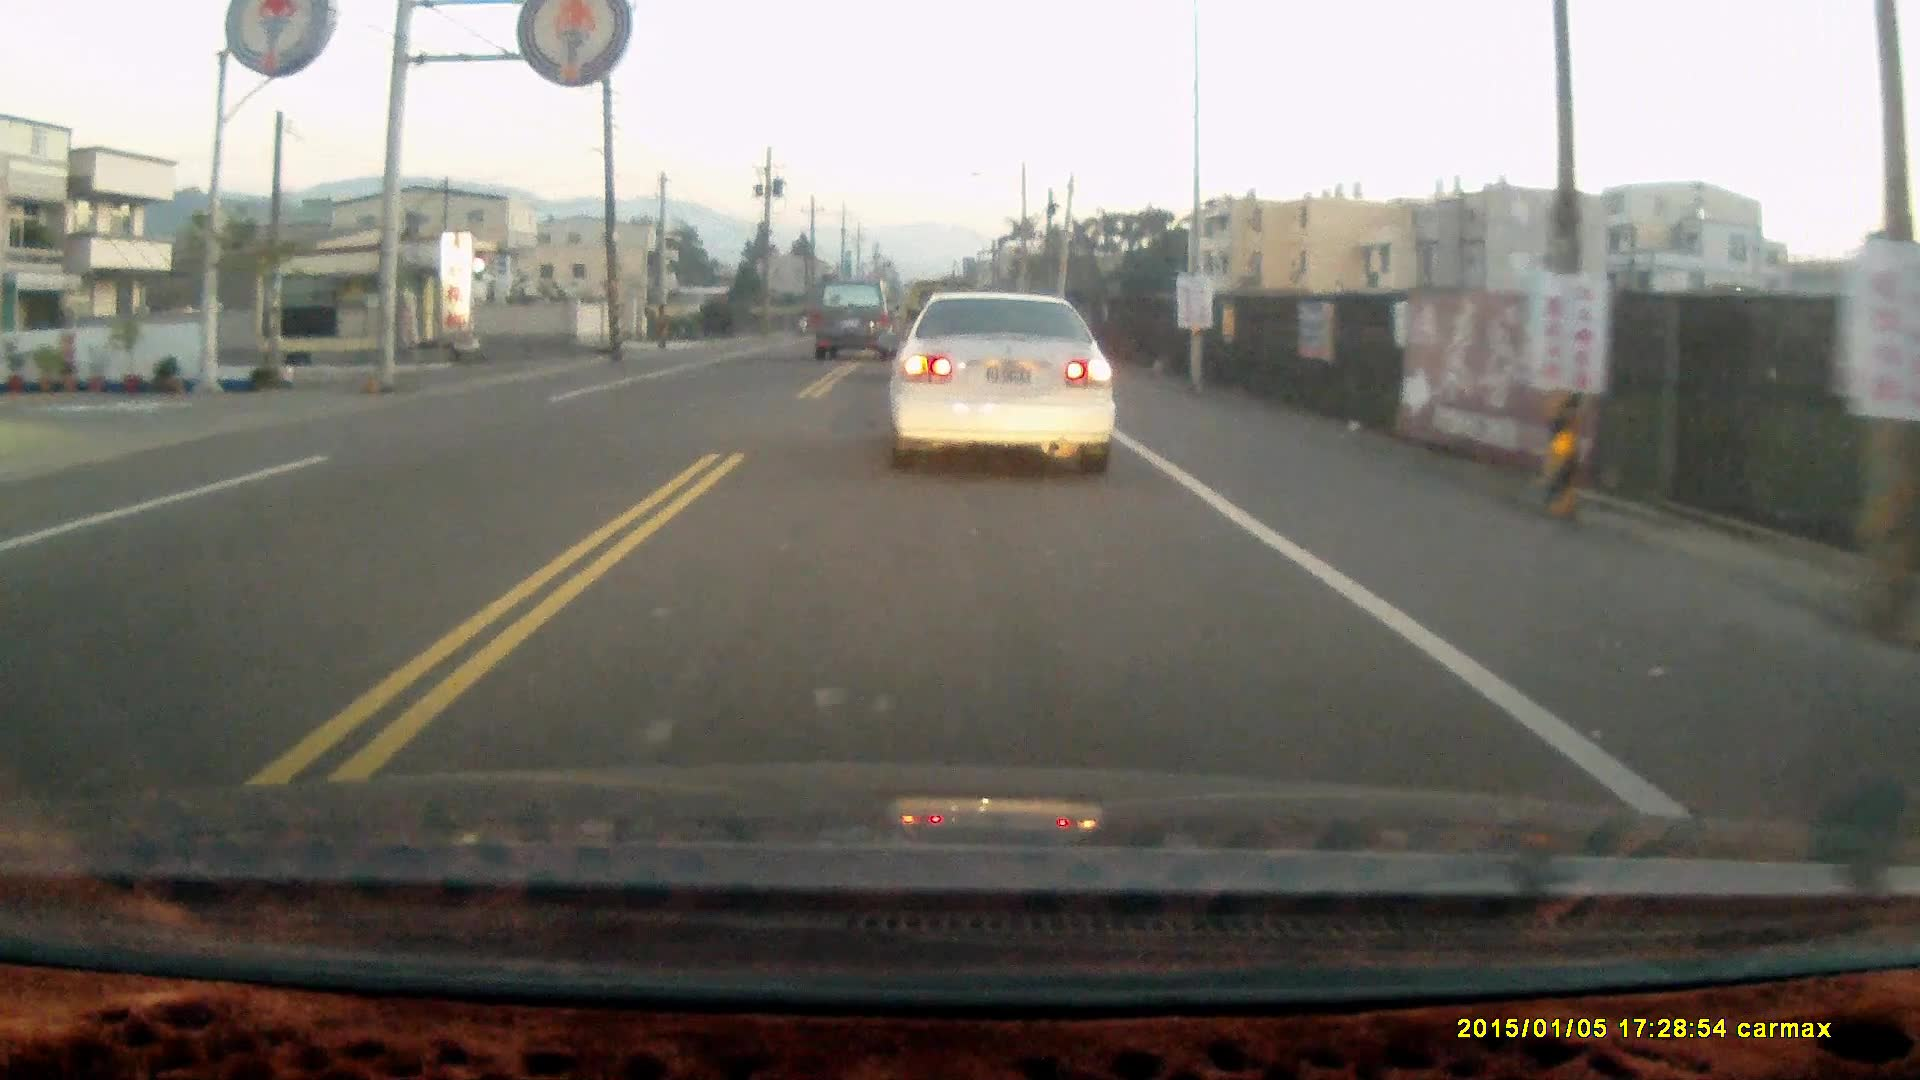vehicle: (886, 291, 1127, 483), (811, 276, 901, 365)
